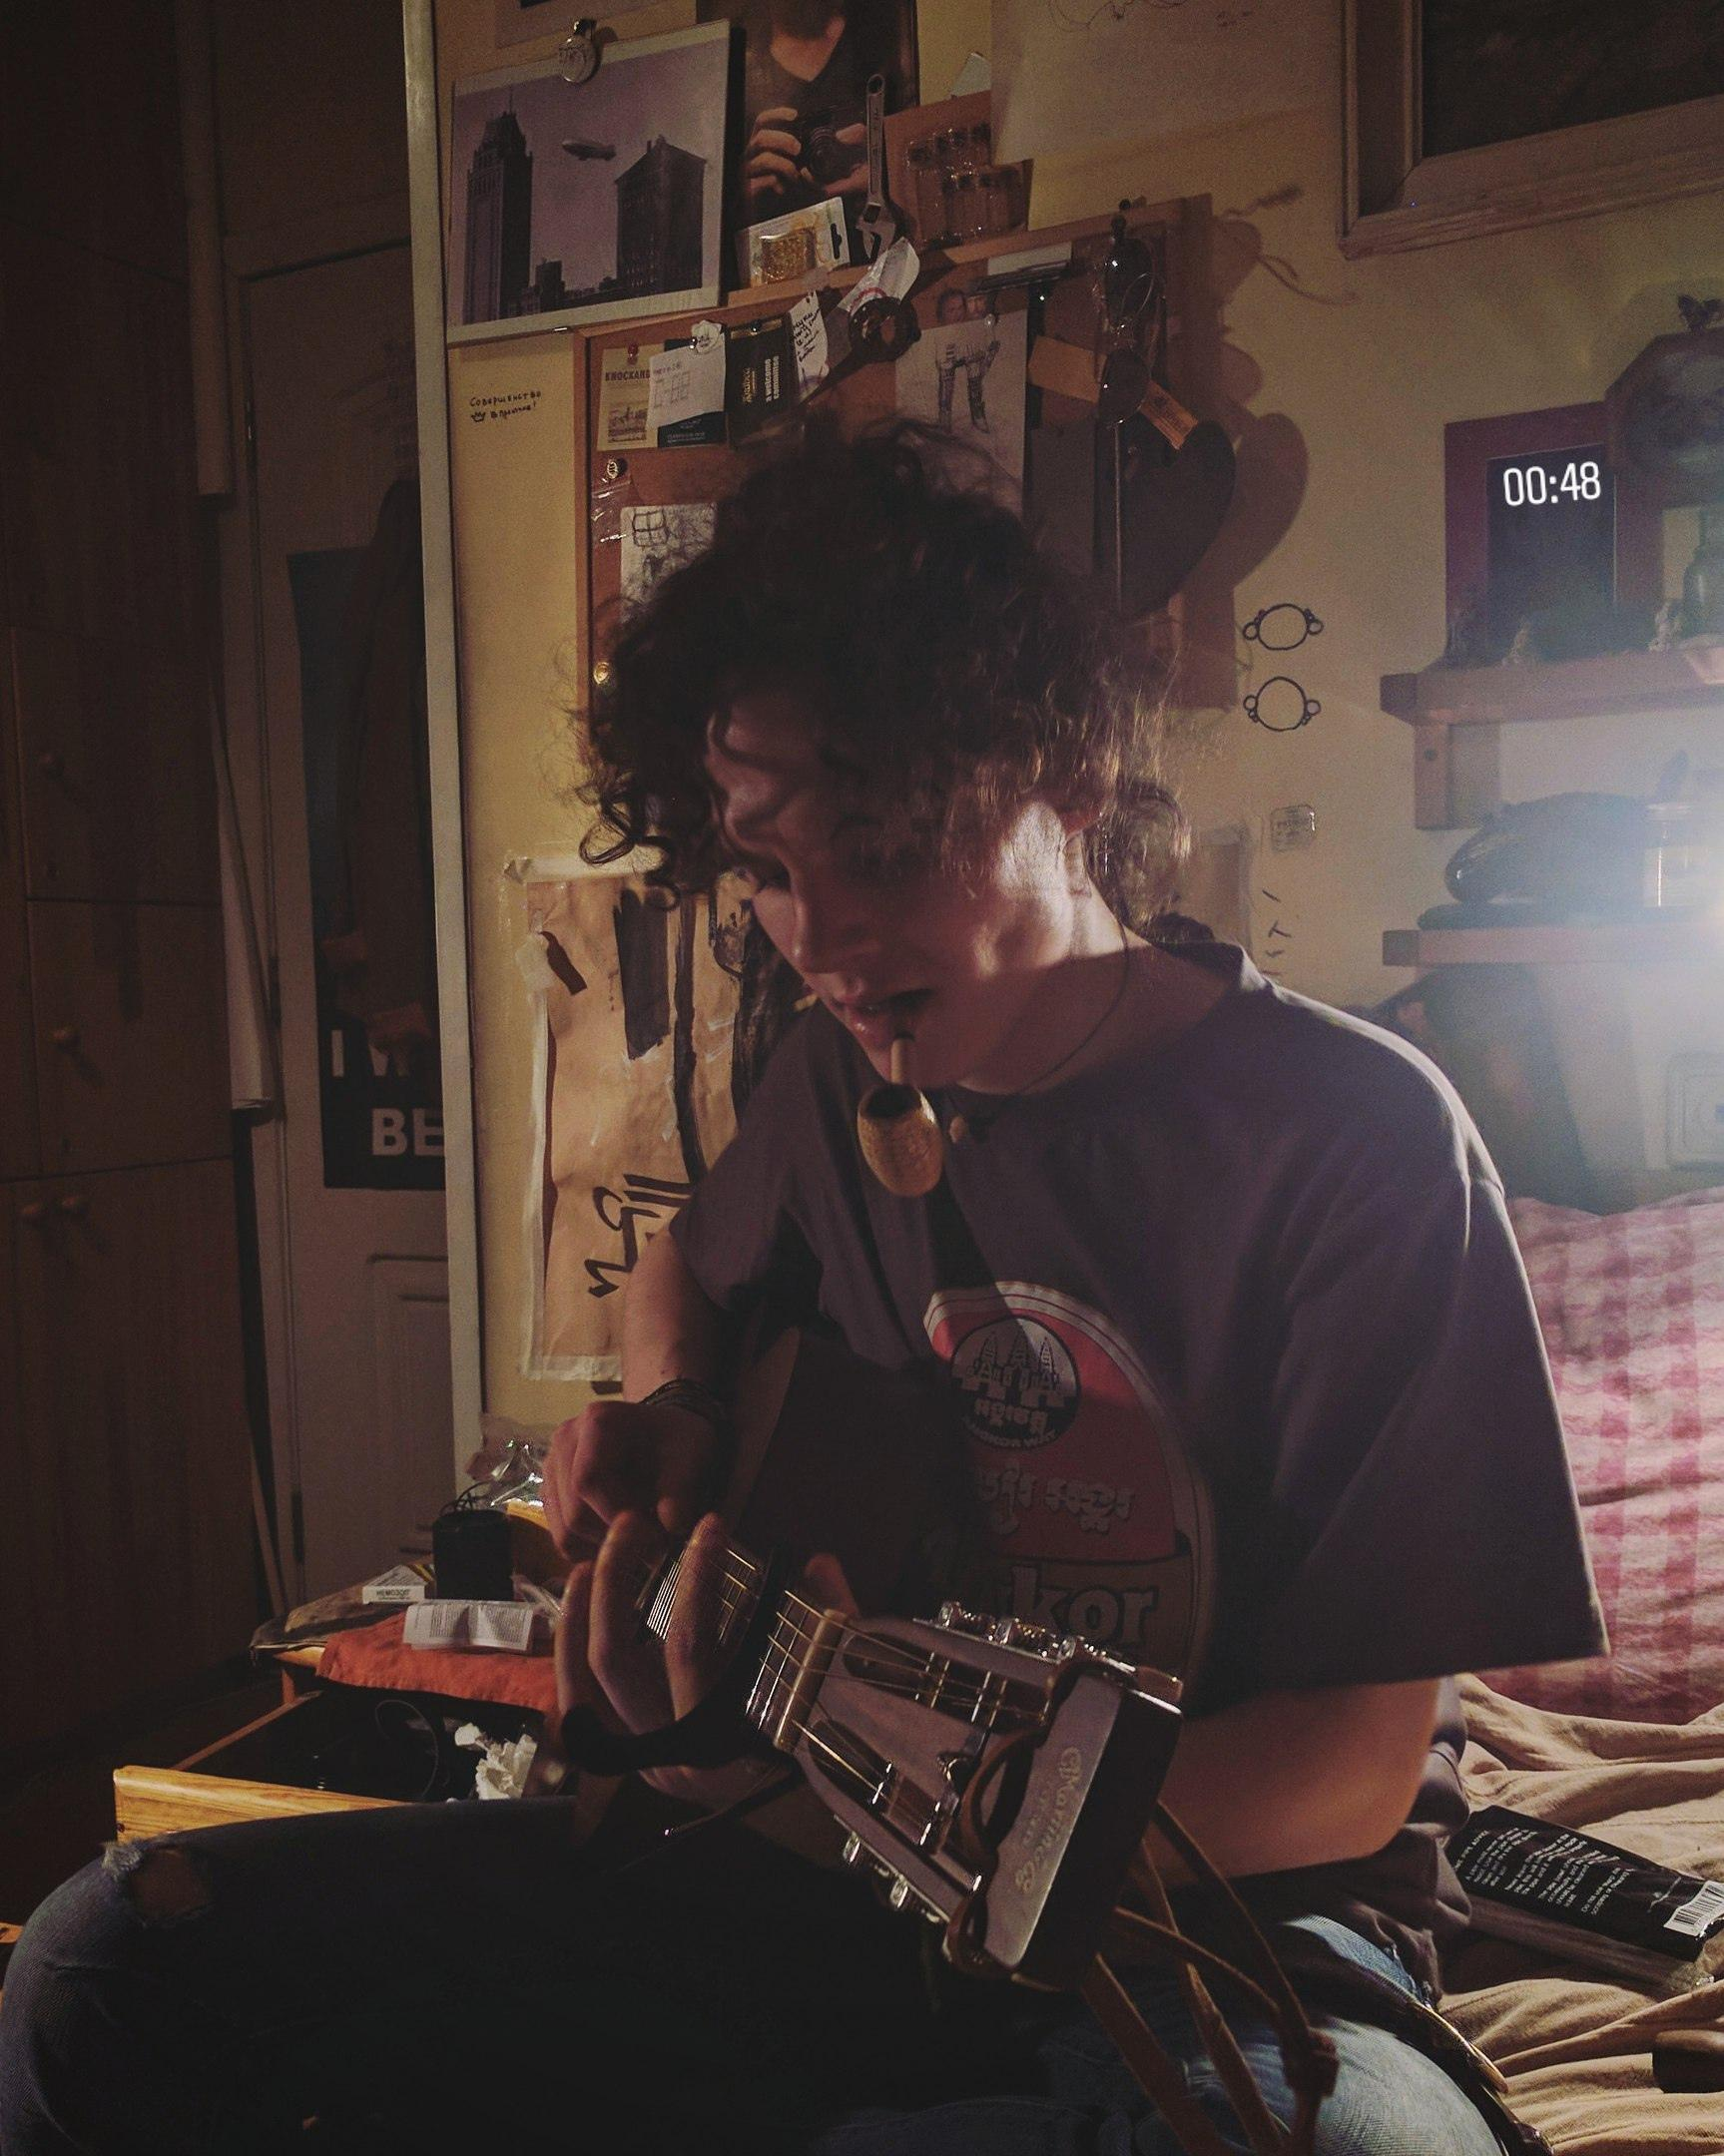trubka: (857, 994, 945, 1198)
